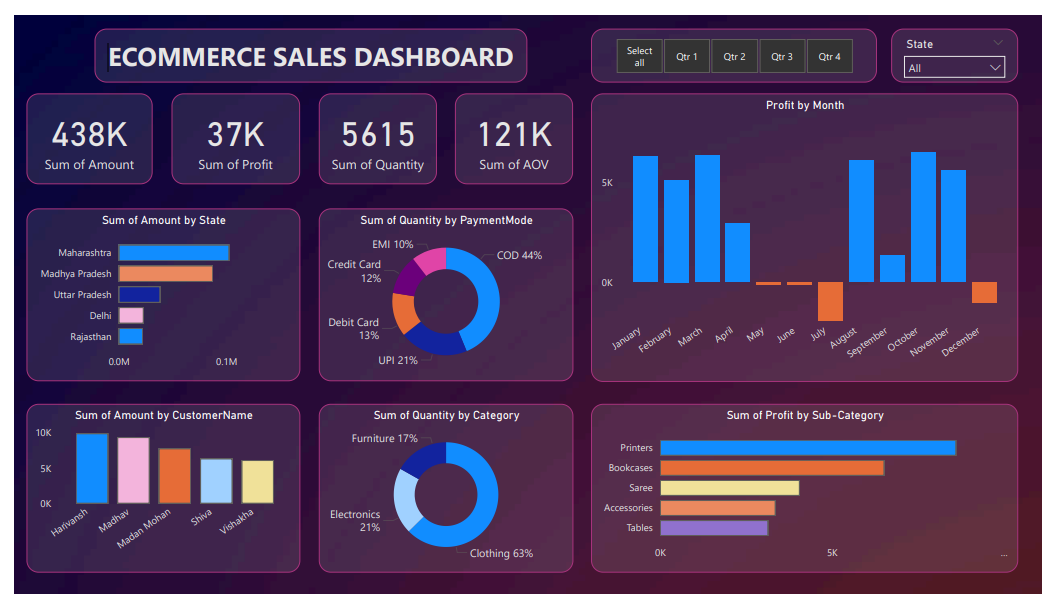

The page's visual inventory and layout, read from the dashboard file:
{"tool":"powerbi","page":{"name":"Page 1","canvas":[1280,720],"ordinal":0},"visuals":[{"type":"columnChart","title":"Profit by Month","fields":{"Category":["Orders.Order Date.Variation.Date Hierarchy.Month"],"Y":["Details.Profit"]},"box":[718.6,97.3,532.4,358.6],"z":0},{"type":"barChart","fields":{"Category":["Details.Sub-Category"],"Y":["Details.Profit"]},"box":[718.6,483.7,532.4,209.9],"z":1000},{"type":"donutChart","fields":{"Y":["Details.Quantity"],"Category":["Details.Category"]},"box":[379.5,483.7,316.9,209.9],"z":2000},{"type":"donutChart","fields":{"Y":["Details.Quantity"],"Category":["Details.PaymentMode"]},"box":[379.5,240.5,316.9,215.4],"z":3000},{"type":"card","fields":{"Values":["Details.Amount"]},"box":[15.3,97.3,157.1,112.6],"z":4000},{"type":"card","fields":{"Values":["Details.Profit"]},"box":[196,97.3,159.8,112.6],"z":5000},{"type":"card","fields":{"Values":["Details.Quantity"]},"box":[379.5,97.3,147.3,112.6],"z":6000},{"type":"card","fields":{"Values":["Details.AOV"]},"box":[549,97.3,147.3,112.6],"z":7000},{"type":"barChart","fields":{"Category":["Orders.State"],"Y":["Details.Amount"]},"box":[15.1,240.2,341,215],"z":8000},{"type":"columnChart","fields":{"Y":["Details.Amount"],"Category":["Orders.CustomerName"]},"box":[15.1,483.8,341,210],"z":9000},{"type":"slicer","fields":{"Values":["Orders.Order Date.Variation.Date Hierarchy.Quarter"]},"box":[718.6,16.7,355.8,66.7],"z":10000},{"type":"textbox","box":[100.1,16.7,539.3,66.7],"z":11000},{"type":"slicer","fields":{"Values":["Orders.State"]},"box":[1092.5,16.7,158.5,66.7],"z":12000}]}

Visuals, with their boxes in screenshot pixels (x1, y1, x2, y2), scaled from the page's 1280x720 canvas onto the 1057x606 screenshot:
"Profit by Month" columnChart: bbox=(593, 82, 1033, 384)
barChart - Details.Sub-Category x Details.Profit: bbox=(593, 407, 1033, 584)
donutChart - Details.Quantity x Details.Category: bbox=(313, 407, 575, 584)
donutChart - Details.Quantity x Details.PaymentMode: bbox=(313, 202, 575, 384)
card - Details.Amount: bbox=(13, 82, 142, 177)
card - Details.Profit: bbox=(162, 82, 294, 177)
card - Details.Quantity: bbox=(313, 82, 435, 177)
card - Details.AOV: bbox=(453, 82, 575, 177)
barChart - Orders.State x Details.Amount: bbox=(12, 202, 294, 383)
columnChart - Details.Amount x Orders.CustomerName: bbox=(12, 407, 294, 584)
slicer - Orders.Order Date.Variation.Date Hierarchy.Quarter: bbox=(593, 14, 887, 70)
textbox: bbox=(83, 14, 528, 70)
slicer - Orders.State: bbox=(902, 14, 1033, 70)
